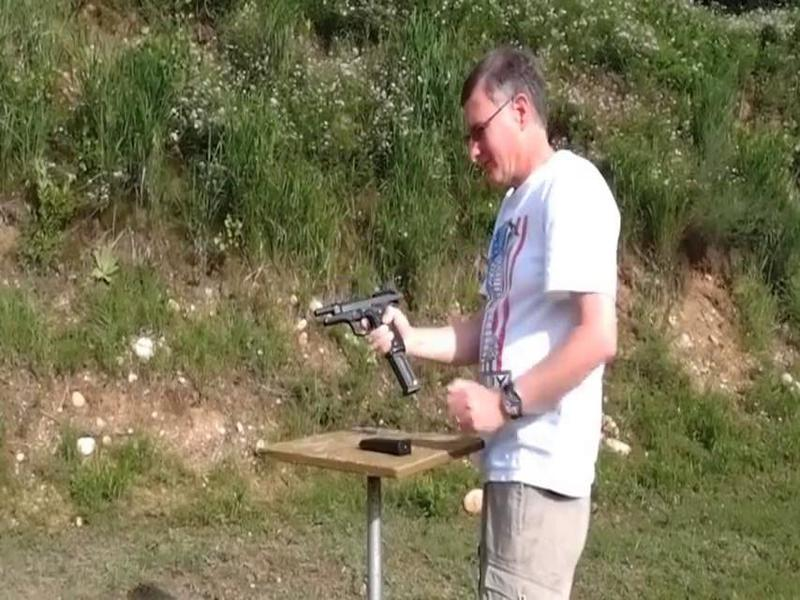Pistola: (300, 265, 417, 377)
